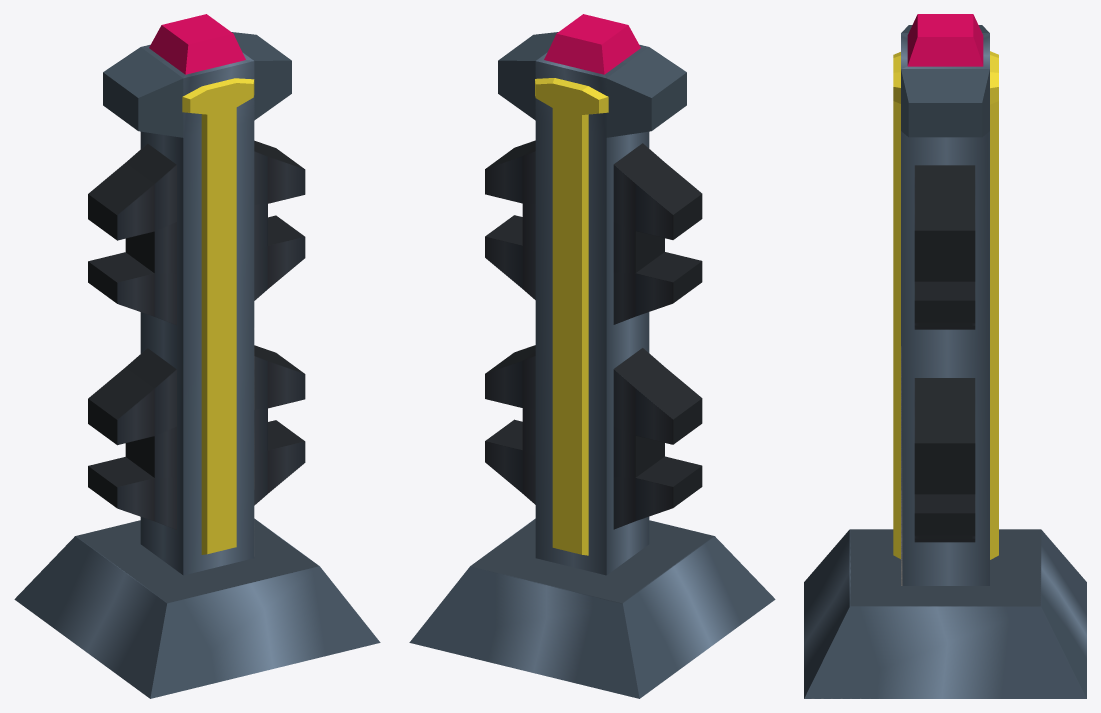
Rendered from Obstaculo2_JumpCentral (1).fbx.
The picture shows the model from 3 angles, left to right: view 1: azimuth 30°, elevation 25°; view 2: azimuth 150°, elevation 25°; view 3: azimuth 270°, elevation 25°; orthographic projection. The views are drawn at different scales.
Visible parts, largest first — view 1: Obstaculo2_JumpCentral; view 2: Obstaculo2_JumpCentral; view 3: Obstaculo2_JumpCentral.
Part boxes in pixels (left/top/right/bottom): Obstaculo2_JumpCentral: left=14, top=14, right=380, bottom=698; Obstaculo2_JumpCentral: left=409, top=14, right=775, bottom=698; Obstaculo2_JumpCentral: left=804, top=14, right=1086, bottom=698.
Size of the model in its own units: 2.72 by 6.67 by 2.78.
